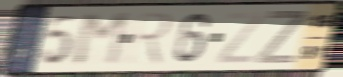5: (38, 13, 81, 67)
6: (172, 11, 211, 66)
M: (71, 10, 133, 68)
R: (124, 10, 175, 67)
Z: (254, 10, 309, 66), (214, 10, 267, 65)
